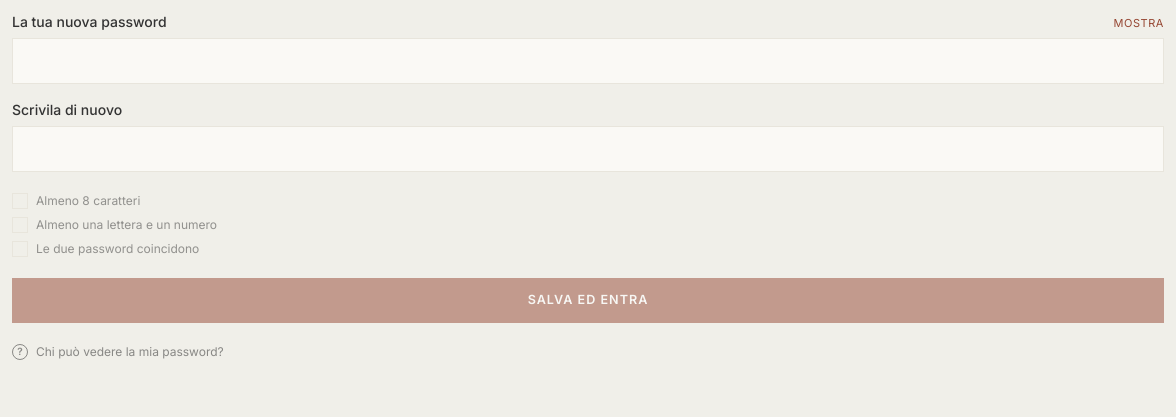
Test: ResetForm — errore di signIn dopo il reset › un blocco per troppi tentativi viene mostrato integrale, non un redirect silenzioso
Type "Password123" into the password field labelled "La tua nuova password". click: coordinates (588, 61)
box: [12, 38, 1164, 84]
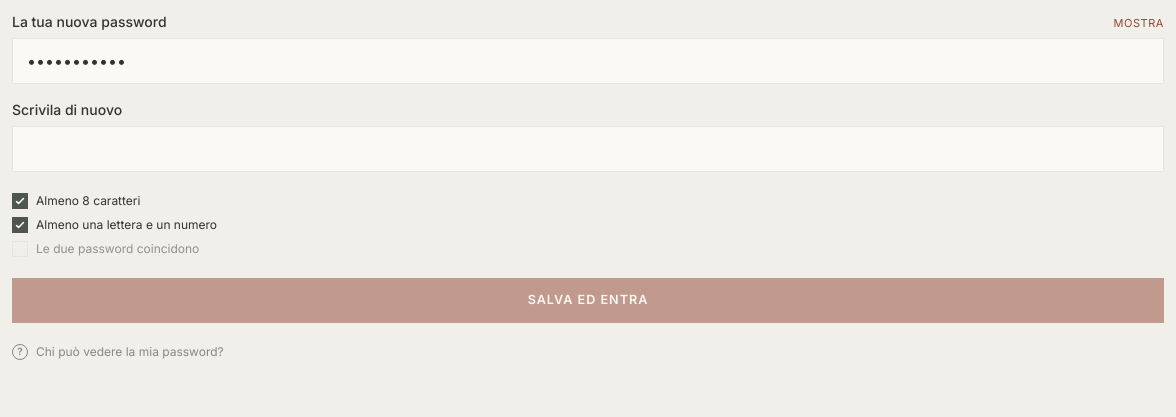
Type "Password123" into the password field labelled "Scrivila di nuovo". click: coordinates (588, 149)
box: [12, 126, 1164, 172]
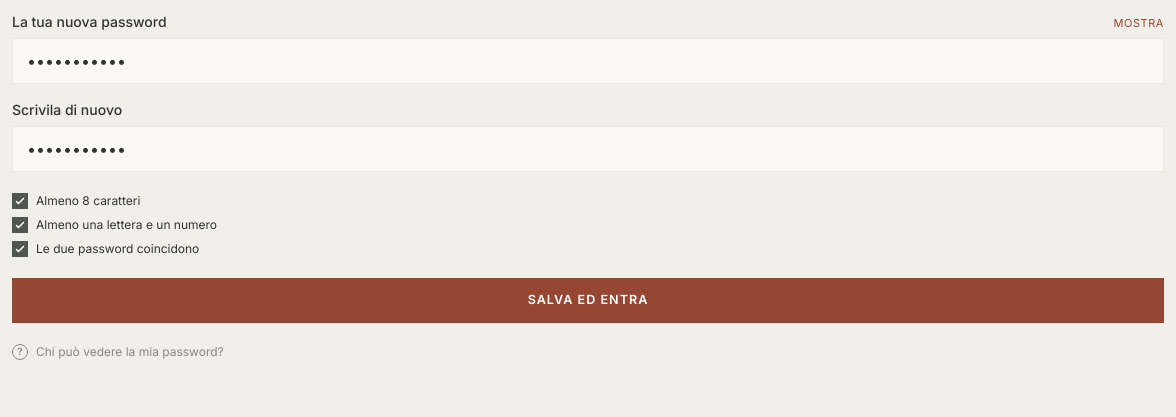
Click the button "Salva ed entra". click: coordinates (588, 300)
box: [12, 278, 1164, 323]
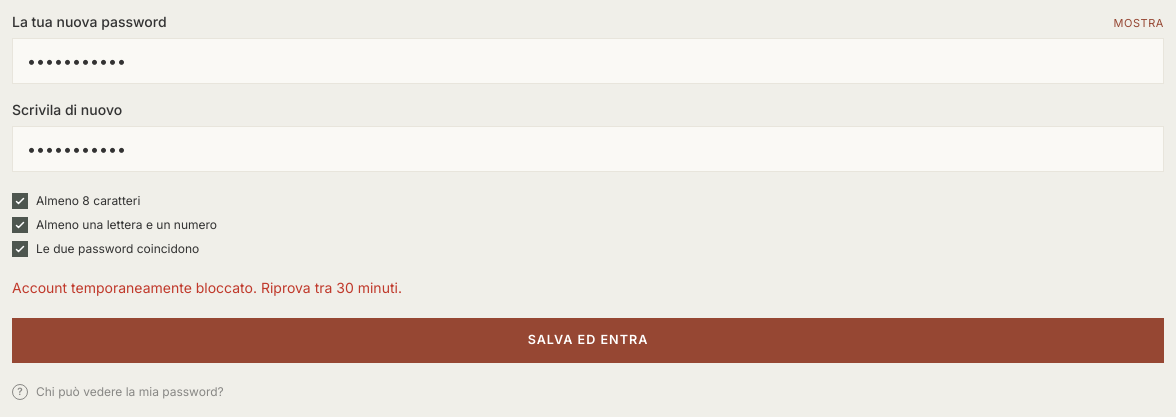
Expected: the text "Account temporaneamente bloccato. Riprova tra 30 minuti." is shown, [12, 279, 402, 296]
